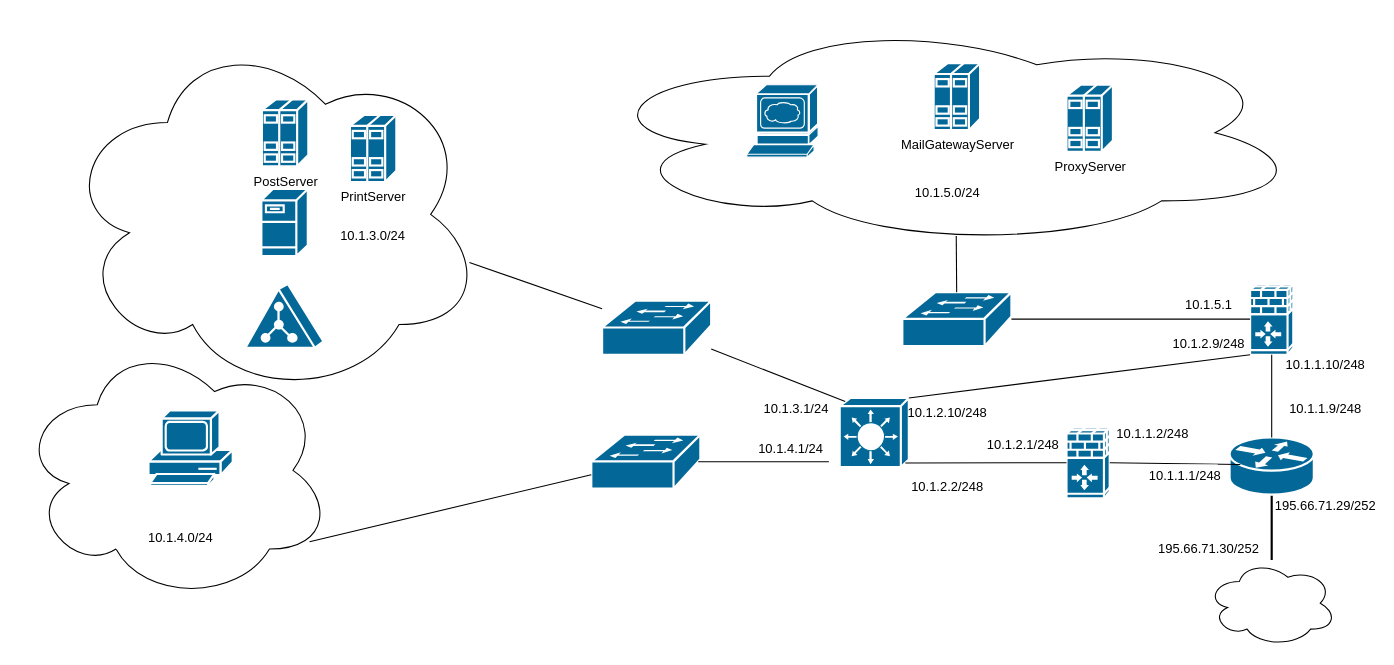
Some shapes in this 1394 by 665 pixel diagram are drawn without their labels. Here are the shapes that lost their labels. From the top down, the box of each, then its label:
(745, 83, 819, 158): WEBServer
(260, 187, 308, 256): FileServer
(244, 282, 324, 348): AD
(147, 409, 233, 487): ПК пользователей
(1206, 559, 1336, 646): Провайдер
